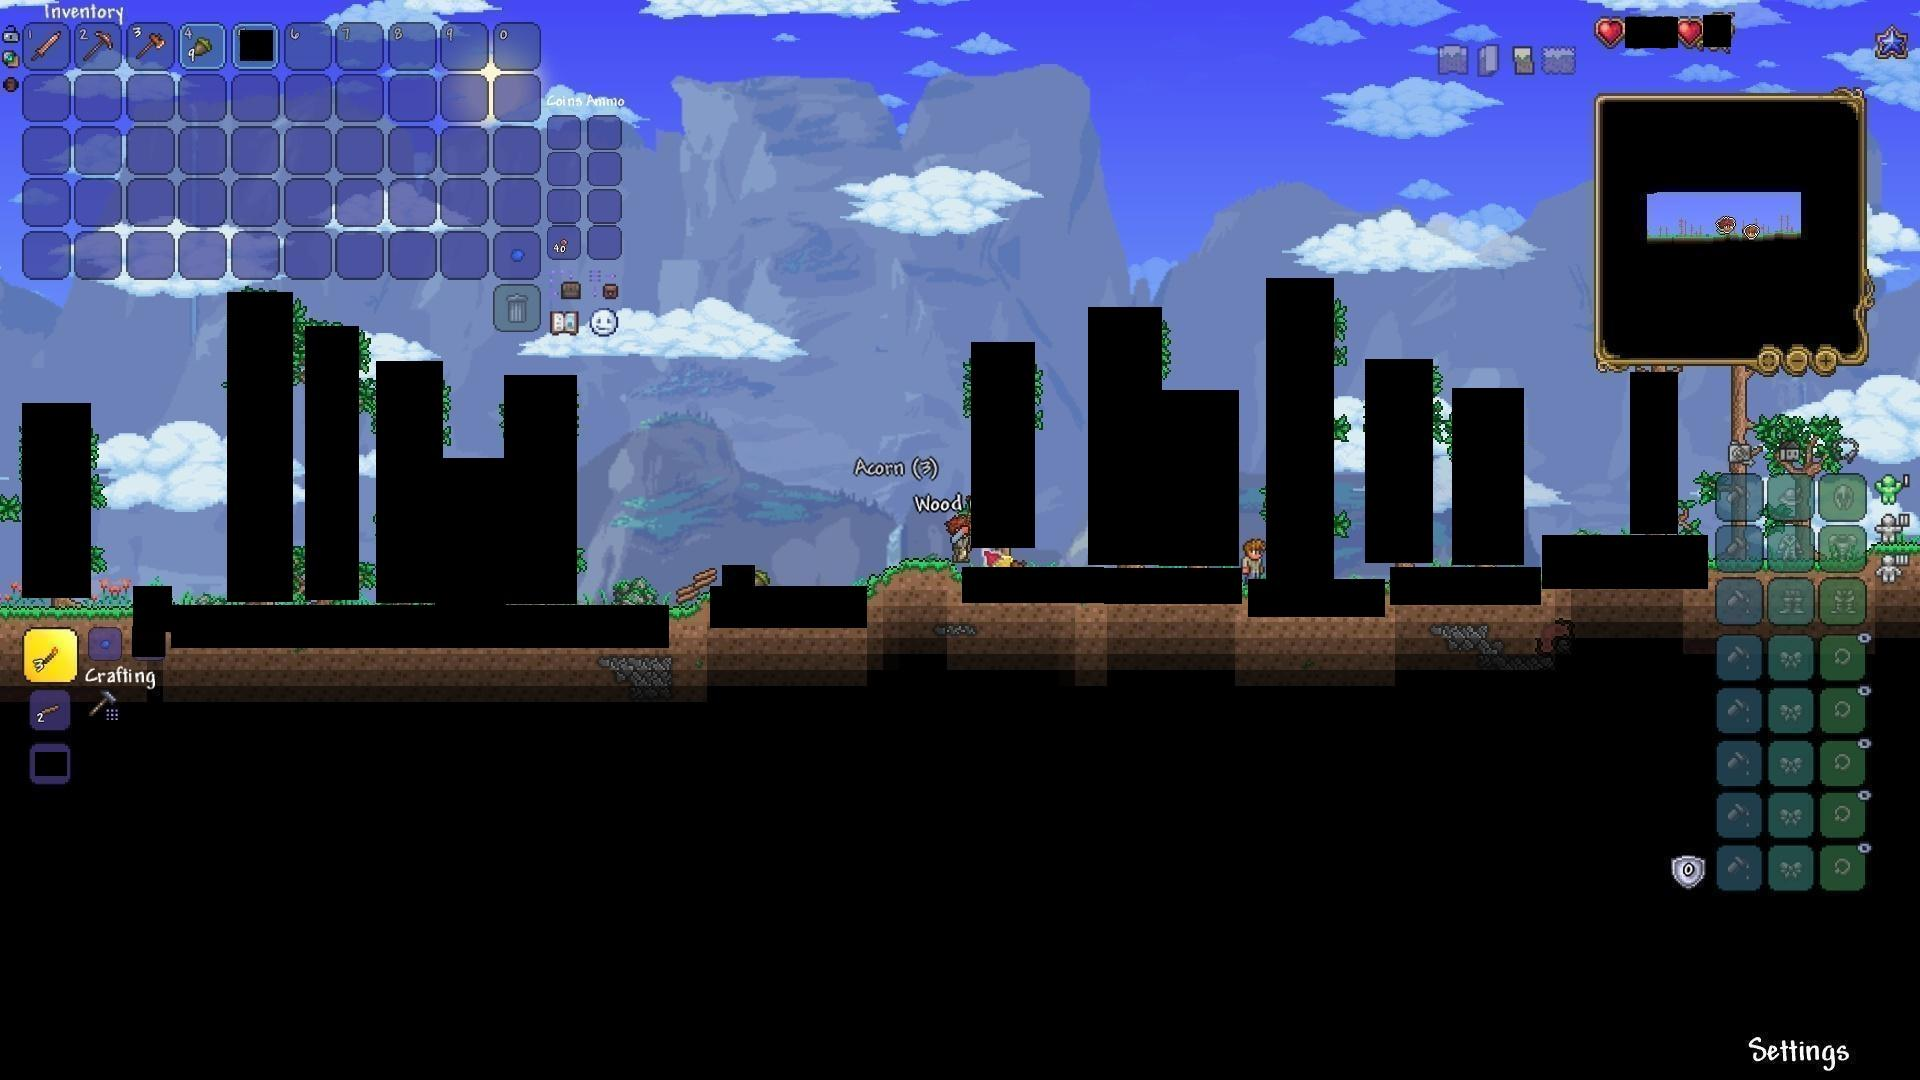dirt: (870, 553, 961, 597), (0, 600, 132, 629)
heart: (1596, 15, 1626, 45), (1676, 16, 1704, 47)
wood: (690, 559, 723, 589), (673, 584, 704, 615)
